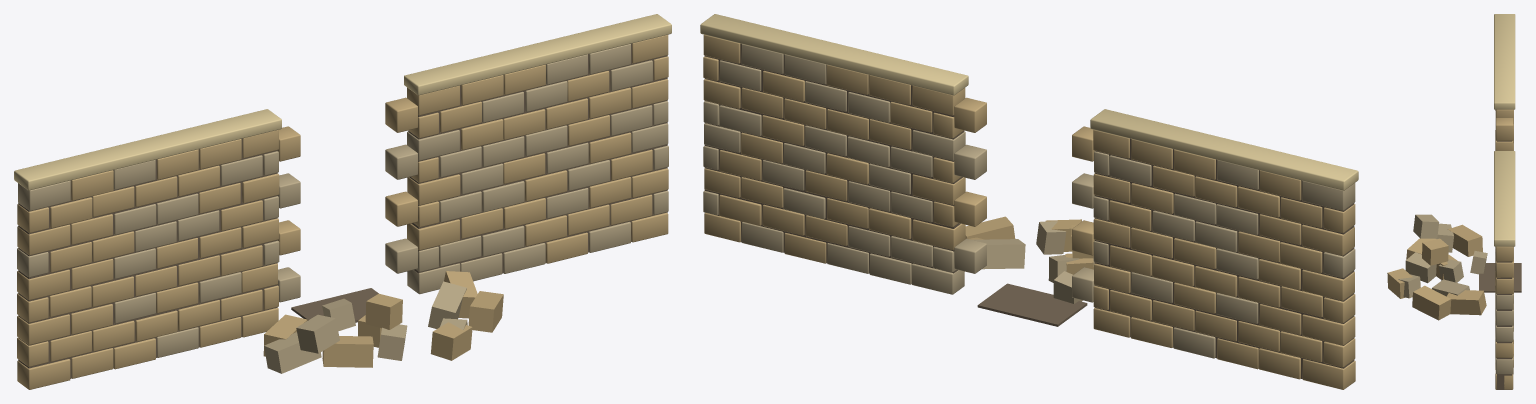
File: wall_broken.glb
3 views of the same model, side by side, from view 1: azimuth 30°, elevation 25°; view 2: azimuth 150°, elevation 25°; view 3: azimuth 270°, elevation 25° (orthographic). The views are drawn at different scales.
Visible parts, largest first — view 1: wall_r_cap, wall_l_cap, wall_l_core, wall_r_core, fallen_6, fallen_3, fallen_9, fallen_2, wall_l_b0, fallen_8, wall_l_b6, wall_l_b2 (+116 smaller); view 2: wall_l_cap, wall_r_cap, wall_r_core, wall_l_core, doormat, wall_l_b2, fallen_13, wall_l_b0, wall_l_b4, wall_l_b6, wall_r_b0, wall_r_b2 (+108 smaller); view 3: wall_l_cap, wall_r_cap, fallen_8, fallen_12, fallen_10, doormat, fallen_5, fallen_4, fallen_9, fallen_2, fallen_1, stub_1_0 (+18 smaller).
Boxes of the visible parts, bbox=[...] form: wall_r_cap: bbox=[404, 14, 671, 95]; wall_l_cap: bbox=[14, 109, 281, 190]; wall_l_core: bbox=[18, 138, 277, 378]; wall_r_core: bbox=[408, 43, 667, 291]; fallen_6: bbox=[322, 336, 373, 367]; fallen_3: bbox=[264, 332, 321, 373]; fallen_9: bbox=[296, 314, 339, 353]; fallen_2: bbox=[430, 322, 472, 360]; wall_l_b0: bbox=[17, 359, 70, 389]; fallen_8: bbox=[468, 291, 503, 332]; wall_l_b6: bbox=[17, 224, 70, 255]; wall_l_b2: bbox=[17, 314, 69, 345]; wall_l_cap: bbox=[1090, 109, 1358, 190]; wall_r_cap: bbox=[700, 14, 968, 95]; wall_r_core: bbox=[704, 43, 964, 273]; wall_l_core: bbox=[1094, 138, 1354, 378]; doormat: bbox=[977, 283, 1087, 326]; wall_l_b2: bbox=[1302, 314, 1355, 345]; fallen_13: bbox=[972, 239, 1025, 269]; wall_l_b0: bbox=[1302, 359, 1355, 389]; wall_l_b4: bbox=[1302, 269, 1354, 300]; wall_l_b6: bbox=[1302, 224, 1354, 255]; wall_r_b0: bbox=[911, 263, 964, 294]; wall_r_b2: bbox=[912, 219, 965, 250]; wall_l_cap: bbox=[1494, 14, 1515, 109]; wall_r_cap: bbox=[1494, 151, 1515, 246]; fallen_8: bbox=[1412, 285, 1451, 320]; fallen_12: bbox=[1447, 290, 1486, 315]; fallen_10: bbox=[1448, 224, 1482, 256]; doormat: bbox=[1479, 263, 1521, 292]; fallen_5: bbox=[1405, 252, 1436, 283]; fallen_4: bbox=[1422, 238, 1448, 265]; fallen_9: bbox=[1413, 214, 1439, 238]; fallen_2: bbox=[1387, 268, 1412, 298]; fallen_1: bbox=[1438, 259, 1463, 282]; stub_1_0: bbox=[1495, 118, 1513, 140].
Size of the model in its own units: 6.03 by 1.93 by 1.51.
